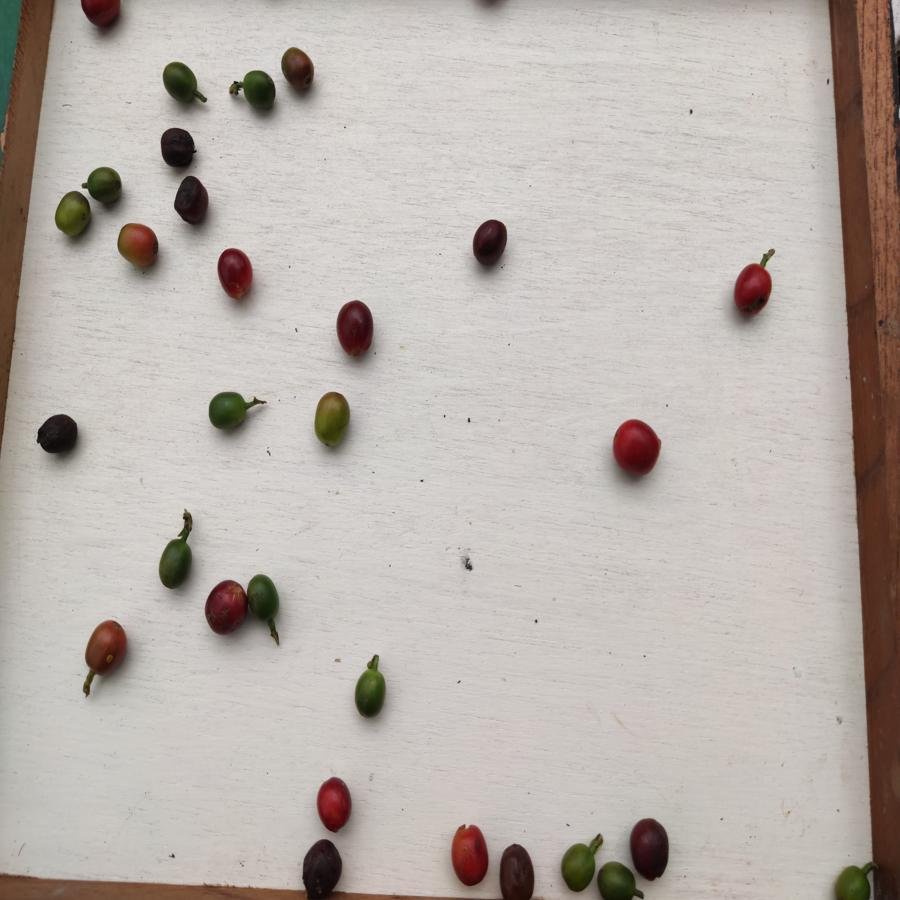Inmaduro: (159, 61, 208, 109), (352, 667, 392, 720), (556, 845, 598, 893), (84, 165, 128, 207), (237, 69, 277, 115), (830, 859, 877, 898), (209, 391, 252, 433), (157, 542, 194, 590), (596, 856, 636, 900), (247, 572, 280, 620)
Maduro: (613, 415, 664, 474), (448, 821, 491, 888), (214, 248, 258, 301), (731, 261, 773, 316), (316, 775, 355, 832)
Pinton: (83, 620, 130, 677), (115, 220, 164, 272), (313, 389, 353, 451), (277, 45, 322, 93), (54, 193, 90, 239)
Sobremaduro: (629, 818, 672, 883), (201, 580, 248, 638), (299, 839, 348, 893), (335, 299, 376, 357), (31, 415, 80, 457), (471, 217, 510, 266), (173, 176, 210, 225), (158, 127, 194, 166)
